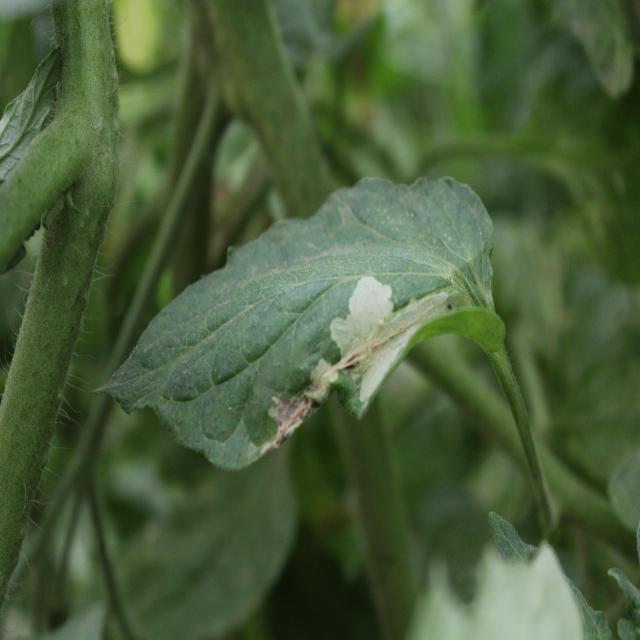Tuta absoluta: (243, 245, 453, 488)
